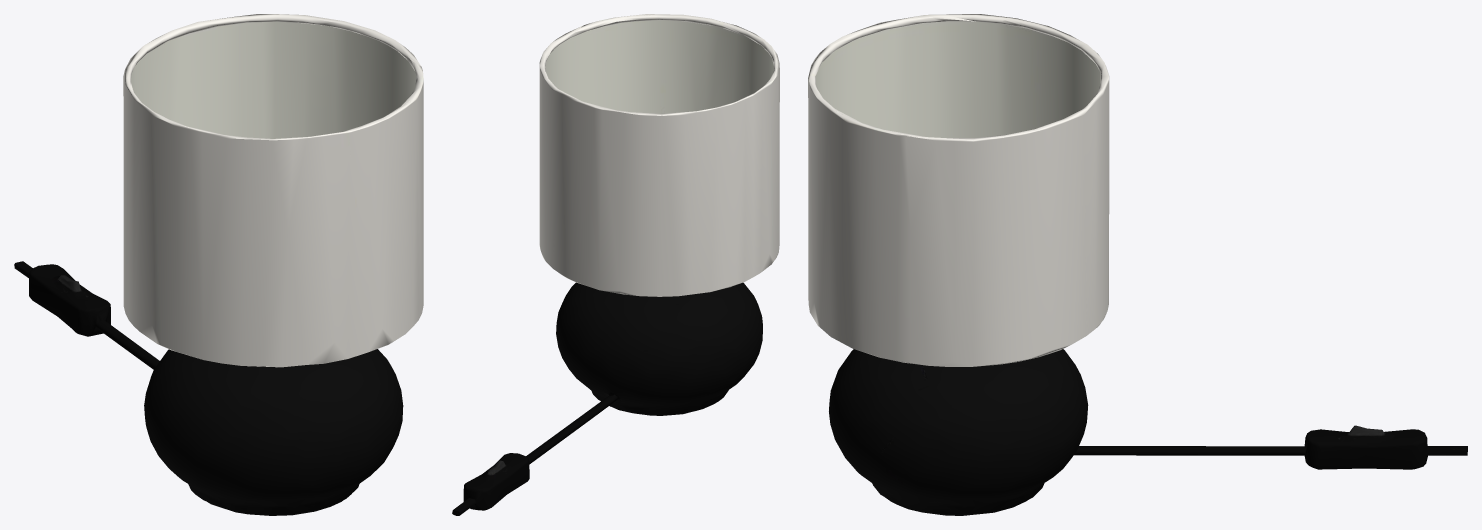
Rendered from TVÄRFOT table lamp.glb.
3 views of the same model, side by side, from view 1: azimuth 30°, elevation 25°; view 2: azimuth 150°, elevation 25°; view 3: azimuth 270°, elevation 25° (orthographic). The views are drawn at different scales.
Visible parts, largest first — view 1: ProcessedMeshNode; view 2: ProcessedMeshNode; view 3: ProcessedMeshNode.
Part boxes in pixels (x1,y1,x2,y2): ProcessedMeshNode: [14, 14, 423, 515]; ProcessedMeshNode: [452, 14, 779, 515]; ProcessedMeshNode: [808, 14, 1467, 515].
Bounding box in the file's own units: 0.1507 × 0.2236 × 0.3305.
1 material, 1 textured.
